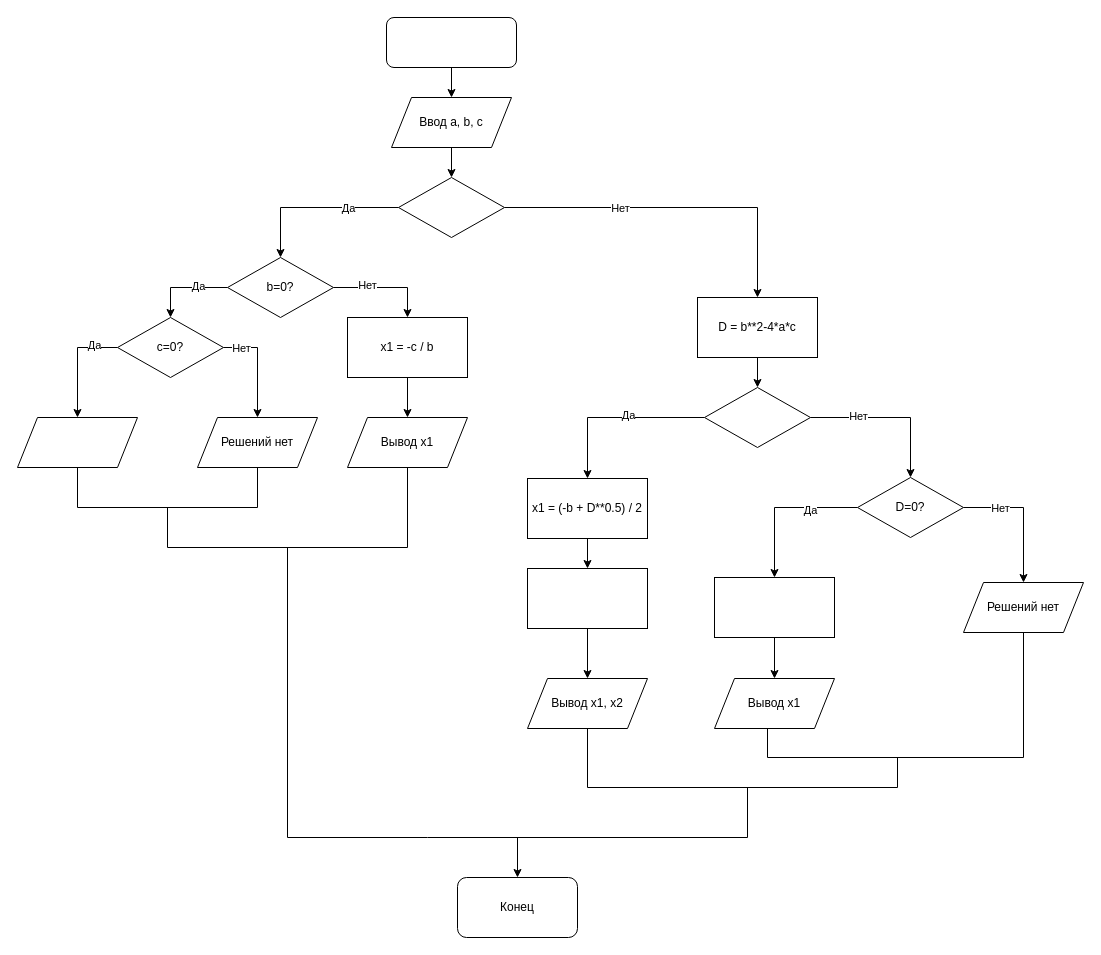
Some shapes in this 1101 by 955 pixel diagram are drawn without their labels. The box of each missing label's shape, as (x1, y1, x2, y2) in pixels:
a=0?: (398, 176, 504, 238)
D > 0?: (704, 386, 810, 448)
x - любое число: (16, 416, 138, 468)
x1 = -b/2*a: (714, 576, 834, 638)
x2 = (-b - D**0.5) / 2: (526, 568, 648, 628)
Начало: (386, 16, 516, 68)
